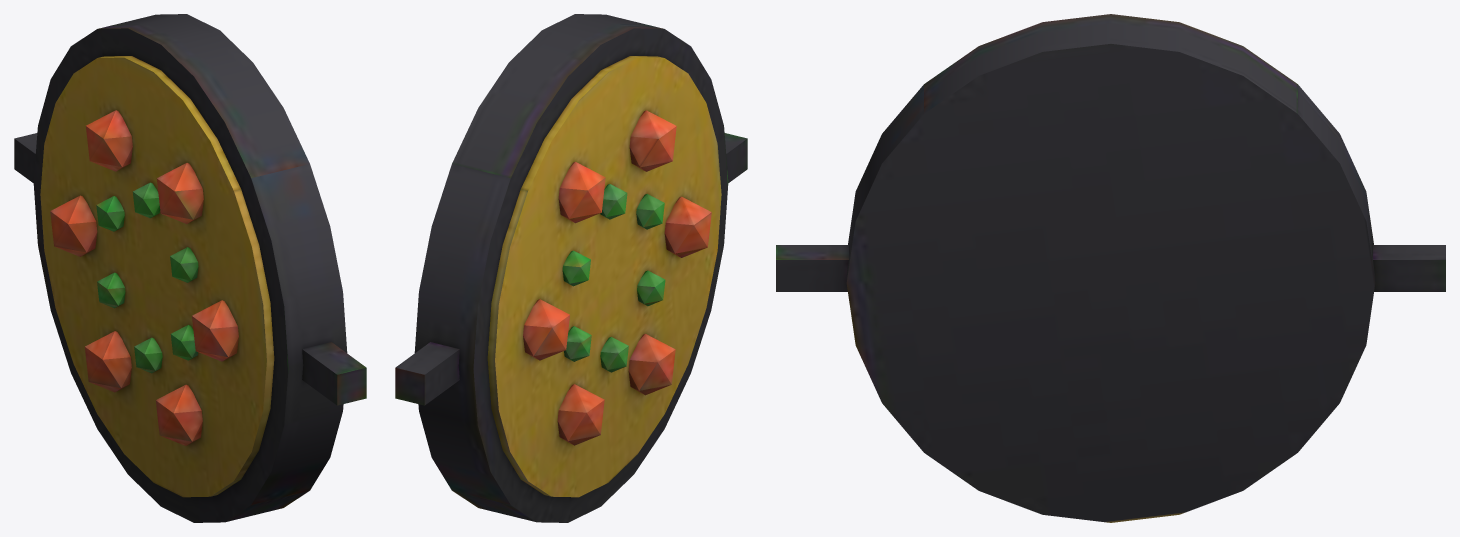
Rendered from paellera.glb.
The picture shows the model from 3 angles, left to right: view 1: azimuth 30°, elevation 25°; view 2: azimuth 150°, elevation 25°; view 3: azimuth 270°, elevation 25°; orthographic projection. The views are drawn at different scales.
Visible parts, largest first — view 1: paellera; view 2: paellera; view 3: paellera.
Boxes of the visible parts, x1,y1,x2,y2 form: paellera: (14, 14, 366, 522); paellera: (395, 14, 747, 522); paellera: (776, 14, 1445, 522).
Bounding box in the file's own units: 0.1937 × 0.9 × 1.14.
Materials: 1 (1 with a texture image).
